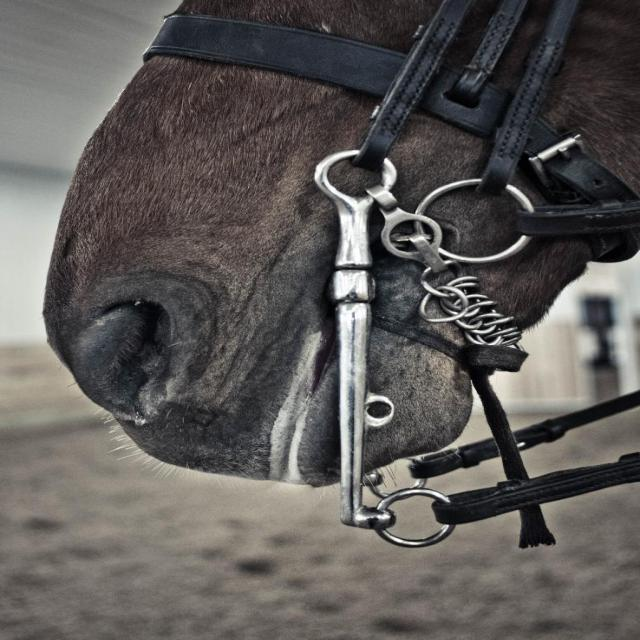Horse: (35, 0, 640, 489)
